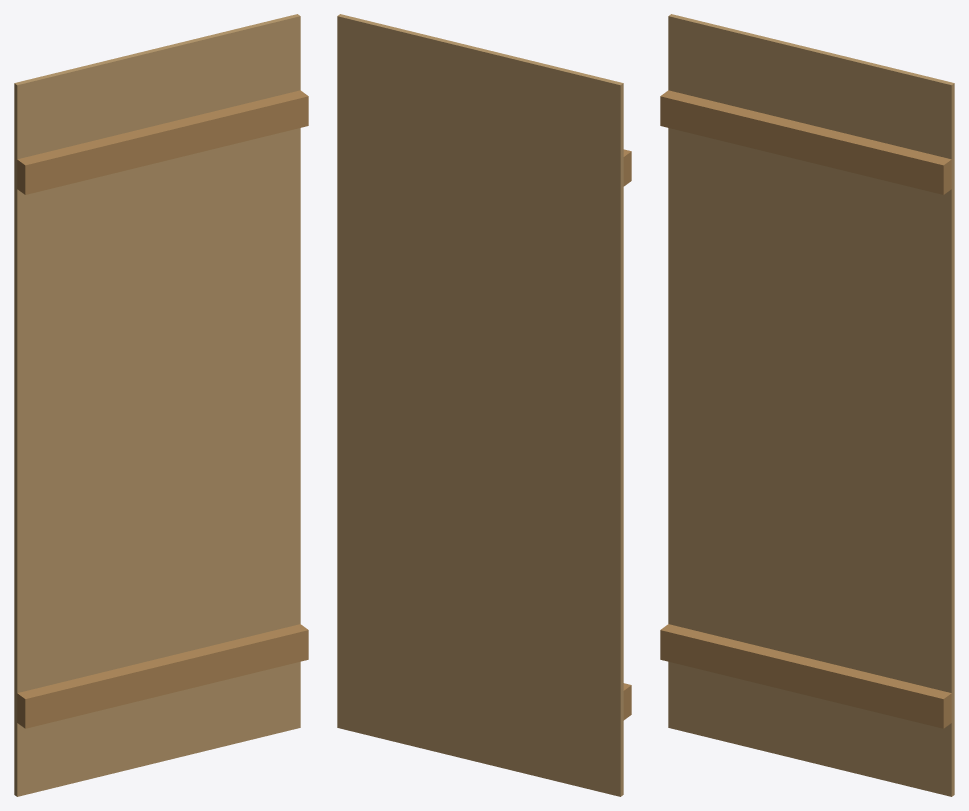
File: plant.fence.hoarding.glb
3 views of the same model, side by side, from view 1: azimuth 30°, elevation 25°; view 2: azimuth 150°, elevation 25°; view 3: azimuth 330°, elevation 25° (orthographic).
Parts seen in each view (by area): view 1: main__plywood, main__softwood; view 2: main__plywood, main__softwood; view 3: main__plywood, main__softwood.
Part boxes in pixels (bbox=[...]): main__plywood: bbox=[14, 14, 300, 796]; main__softwood: bbox=[17, 90, 308, 728]; main__plywood: bbox=[337, 14, 623, 796]; main__softwood: bbox=[623, 149, 631, 720]; main__plywood: bbox=[668, 14, 954, 796]; main__softwood: bbox=[660, 90, 951, 728].
Size of the model in its own units: 1 by 2.4 by 0.068.
